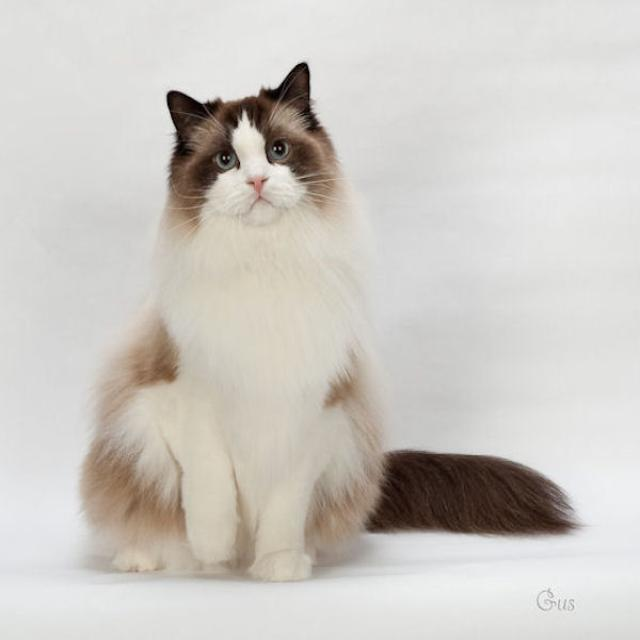Ragdoll: (162, 54, 345, 247)
